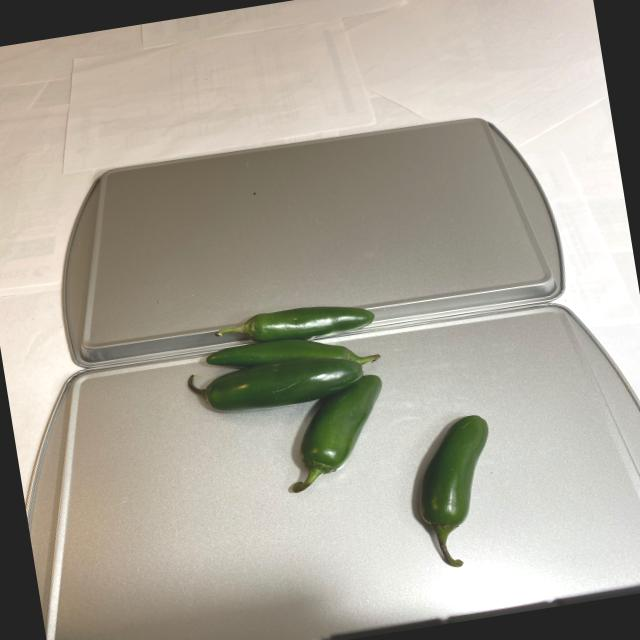chilli: (170, 281, 506, 608)
